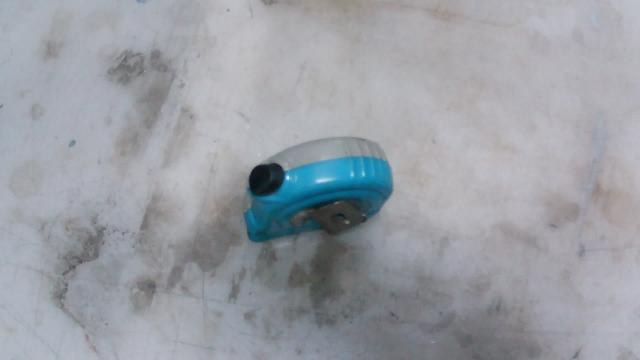meteran: (233, 114, 406, 268)
